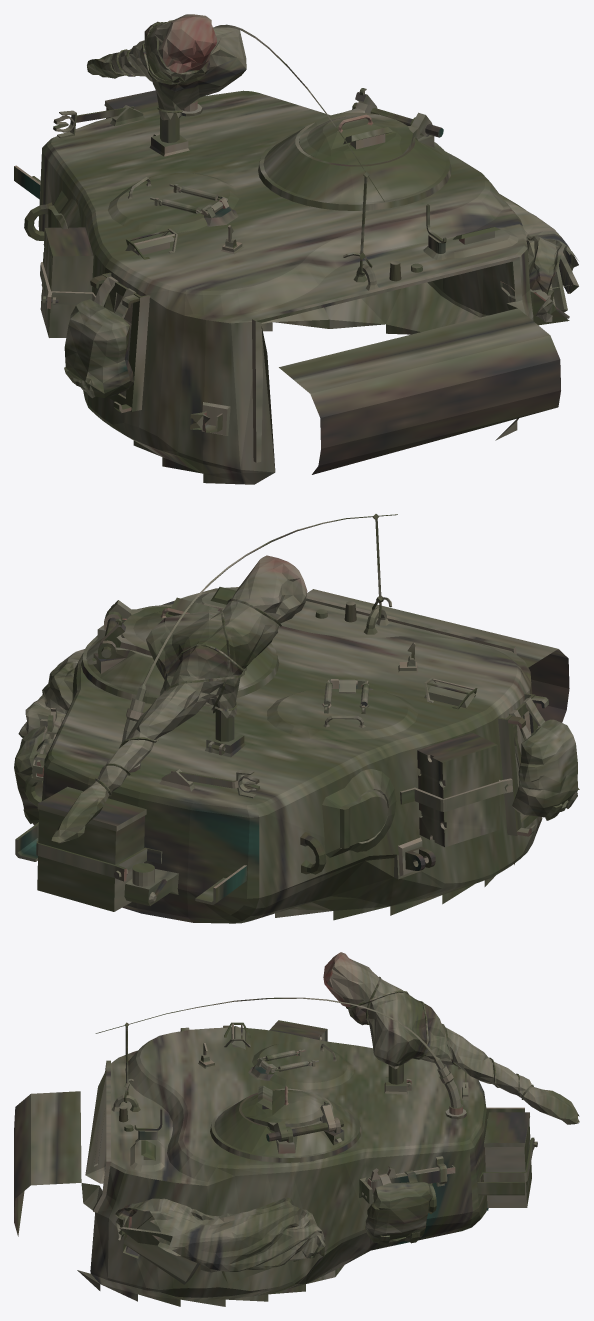
The model's file is pershing_turret_m2.obj.
The picture shows the model from 3 angles, top to bottom: view 1: azimuth 30°, elevation 25°; view 2: azimuth 150°, elevation 25°; view 3: azimuth 270°, elevation 25°; orthographic projection. The views are drawn at different scales.
Parts seen in each view (by area): view 1: pershing_turret_m2; view 2: pershing_turret_m2; view 3: pershing_turret_m2.
Boxes of the visible parts, left/top/right/bottom form: pershing_turret_m2: left=14, top=14, right=578, bottom=484; pershing_turret_m2: left=14, top=514, right=579, bottom=923; pershing_turret_m2: left=14, top=952, right=579, bottom=1306.
Size of the model in its own units: 2.71 by 1.82 by 3.48.
1 material, 1 textured.
